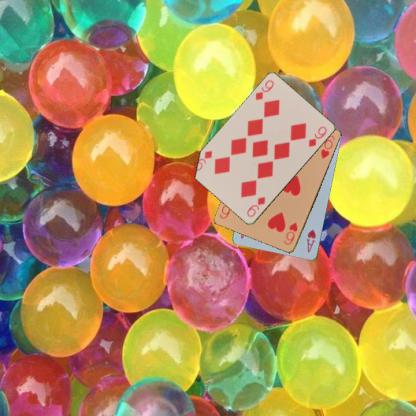6h: (281, 220, 299, 246)
9d: (244, 194, 266, 219), (253, 77, 275, 102)
Ah: (304, 227, 317, 254)
